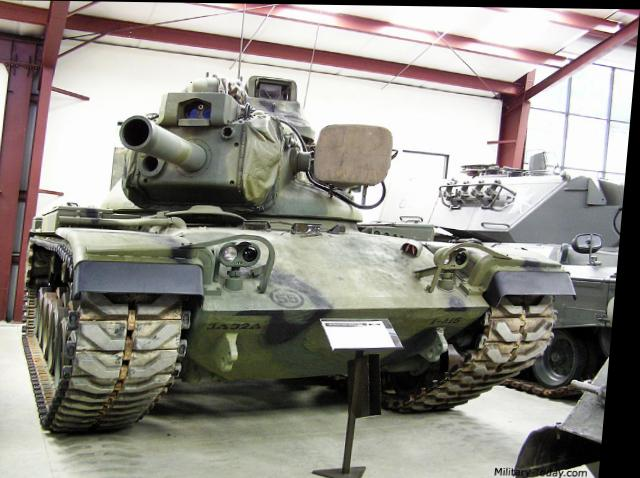tank: (6, 52, 586, 435)
